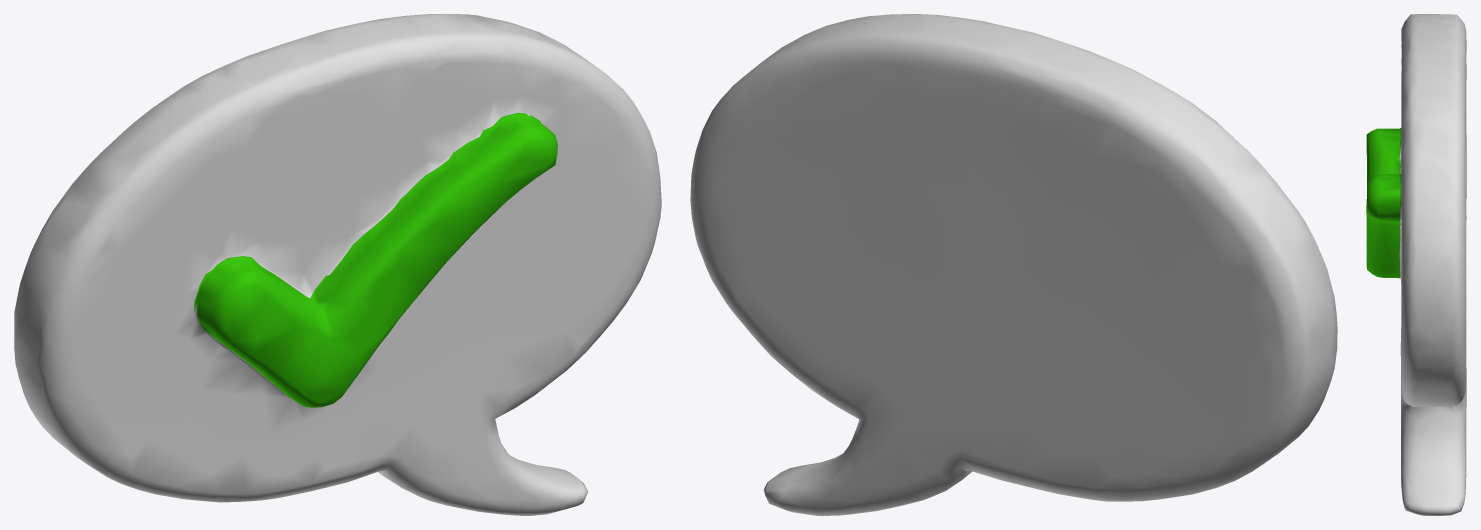
File: correct.glb
3 renders of one model, left to right at view 1: azimuth 30°, elevation 25°; view 2: azimuth 150°, elevation 25°; view 3: azimuth 270°, elevation 25°, orthographic. The views are drawn at different scales.
Parts seen in each view (by area): view 1: sb_check; view 2: sb_check; view 3: sb_check.
Boxes of the visible parts, <box> form: sb_check: <box>14,14,661,515</box>; sb_check: <box>690,14,1337,515</box>; sb_check: <box>1366,14,1466,515</box>.
Size of the model in its own units: 1.01 by 0.8011 by 0.1891.
